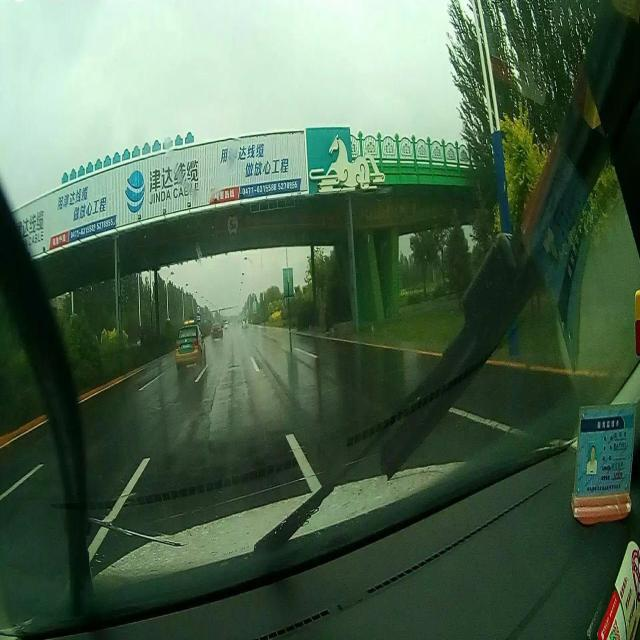car: (174, 318, 206, 372), (212, 321, 222, 339)
